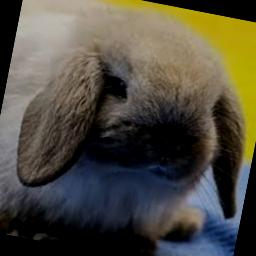rabbit: (0, 0, 245, 256)
